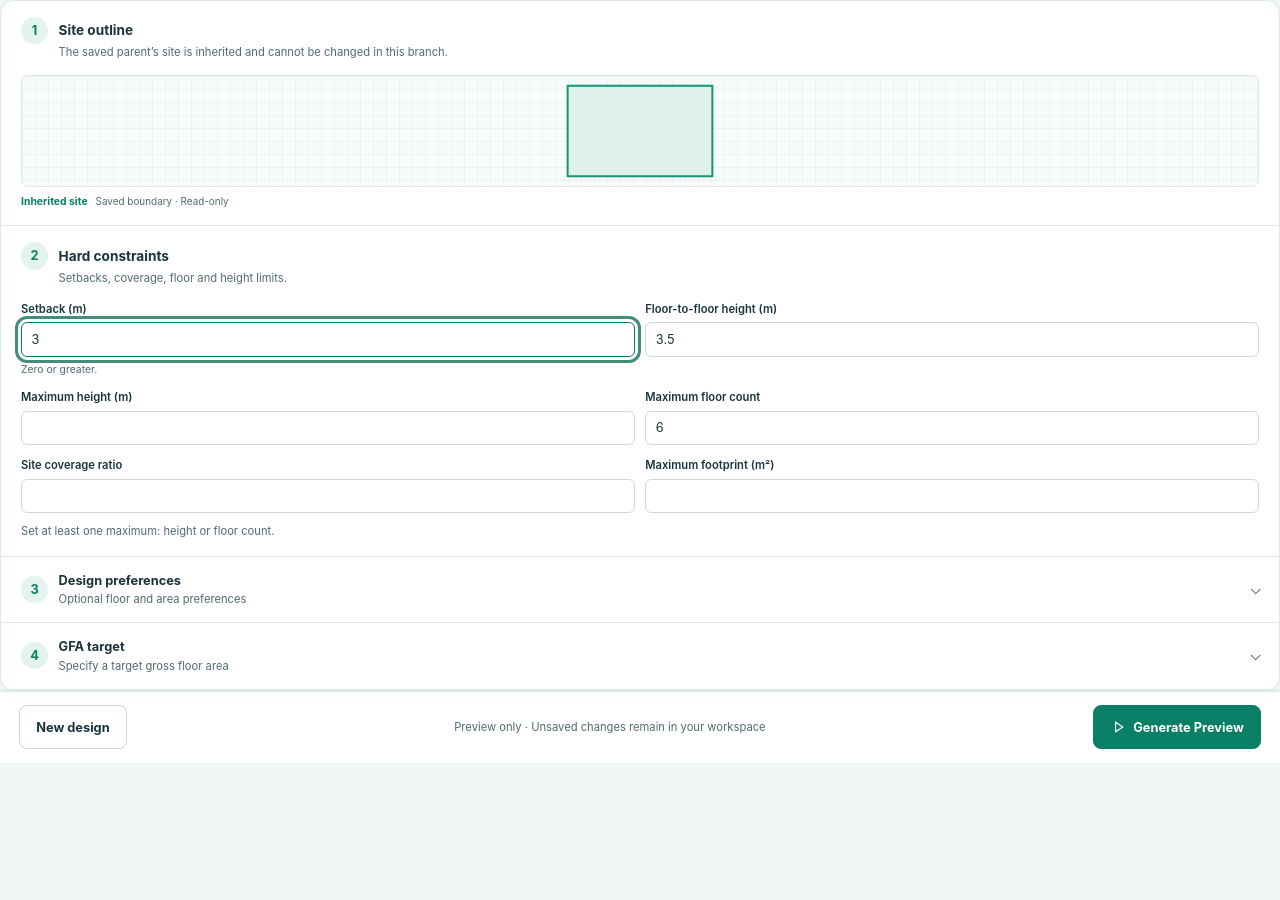
it: ConfigurationForm › focuses branch entry without scrolling and still reveals invalid fields on submission
Click the text "Design preferences" at (120, 580), box [59,572,181,588]
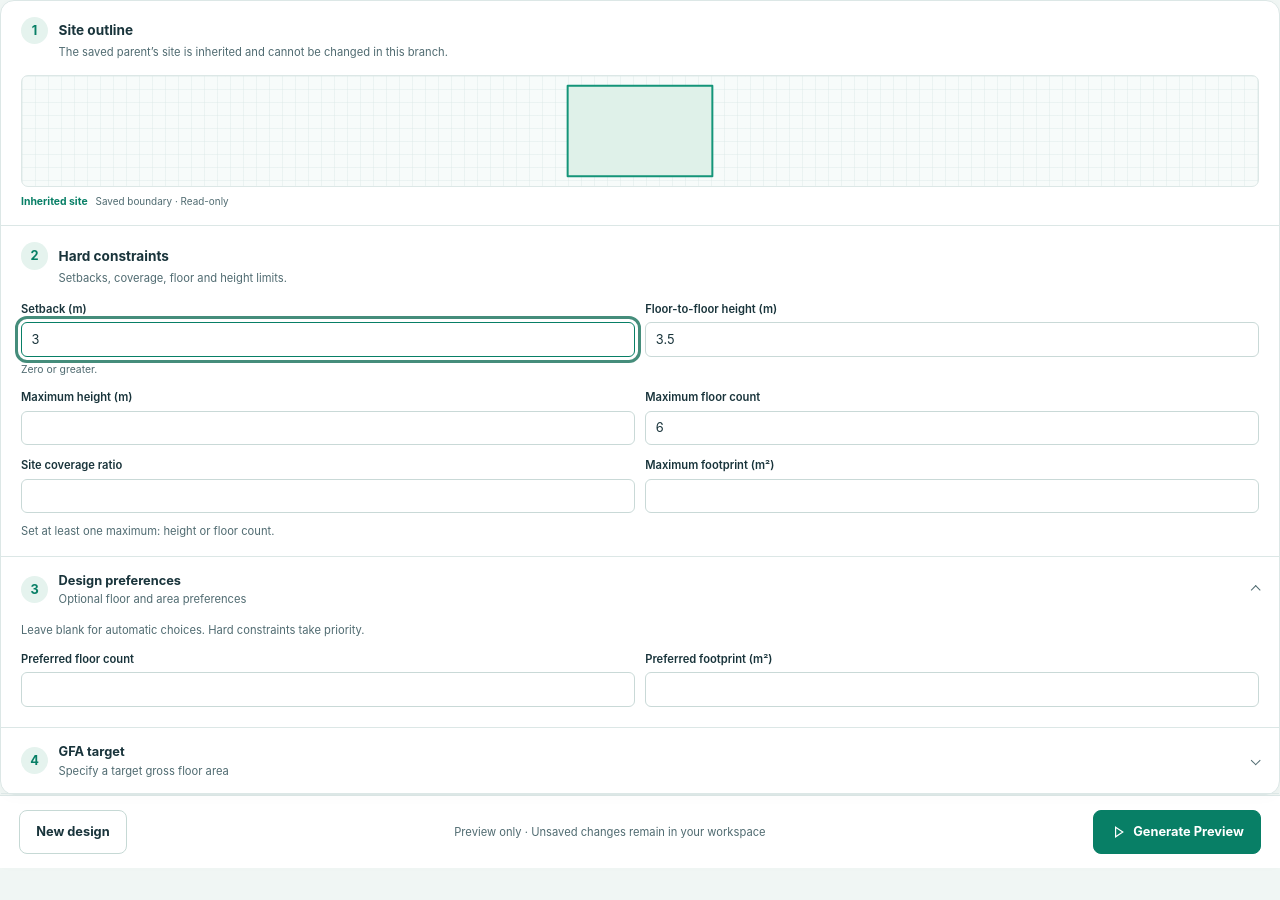
Type "invalid" into the field named "Preferred floor count (optional)" at (328, 690), box [21,672,635,707]
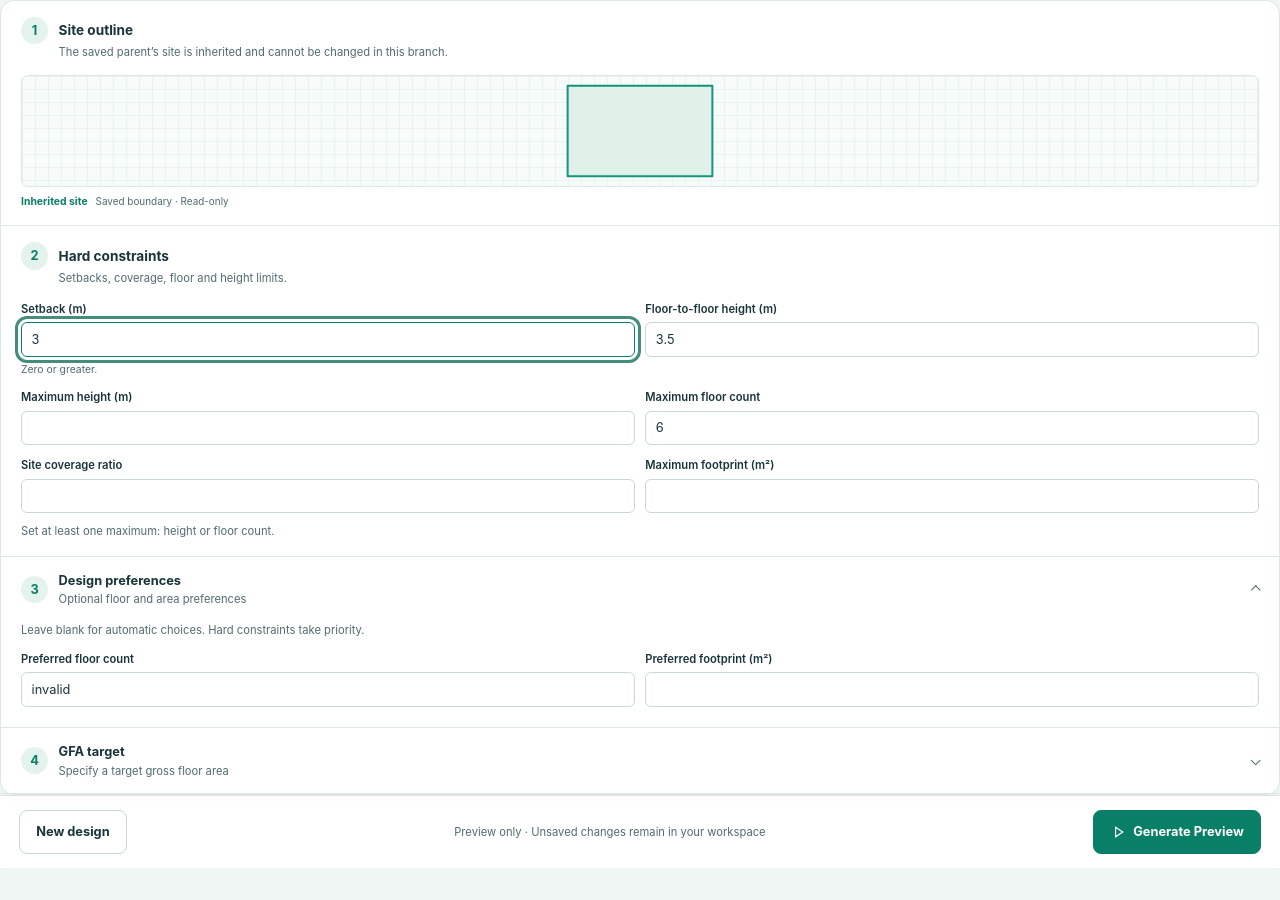
Click the text "Design preferences" at (120, 580), box [59,572,181,588]
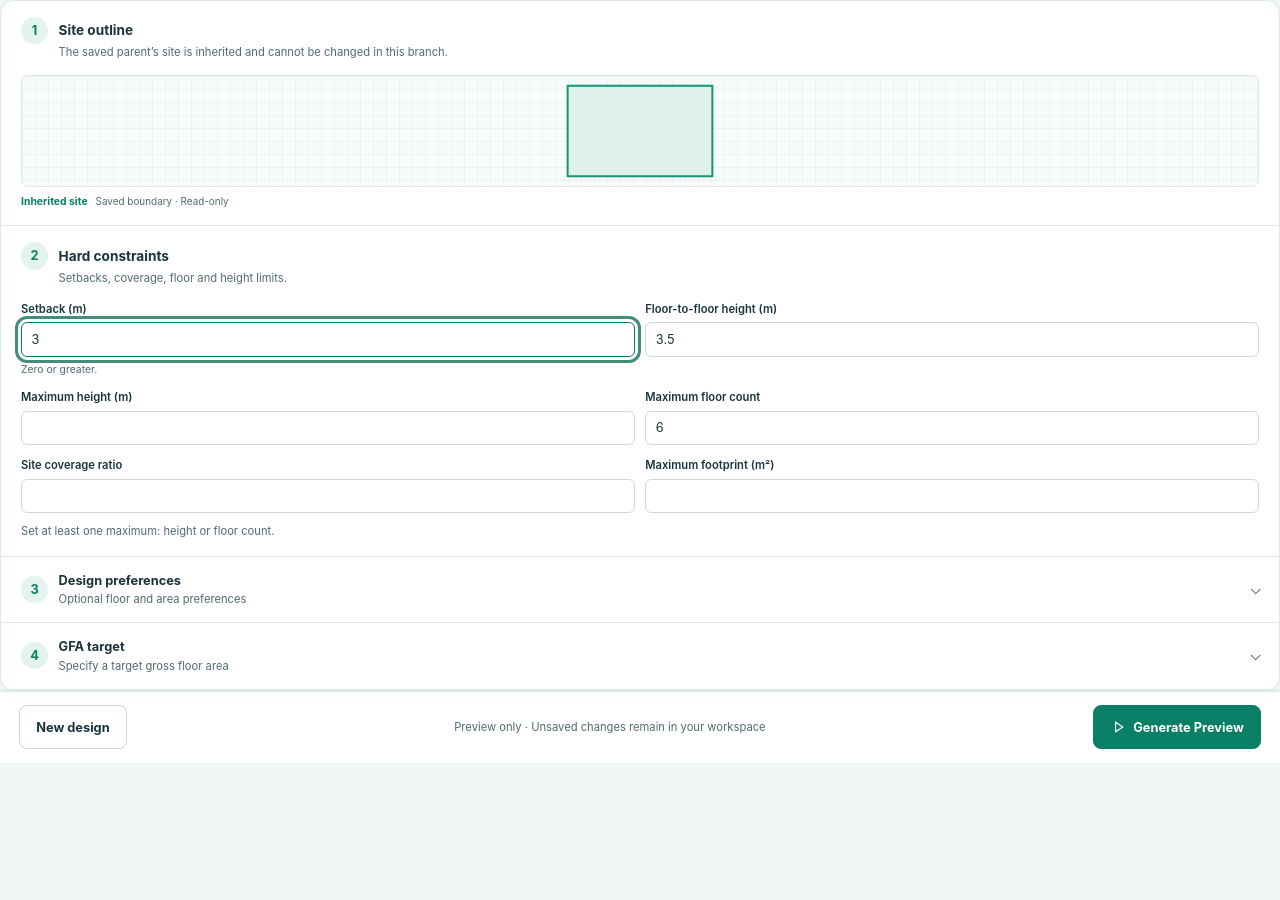
Expected: the text "Design preferences" does not have attribute open, [1,556,1279,623]
Click the button "Generate Preview" at (1177, 727), box [1093,705,1261,749]
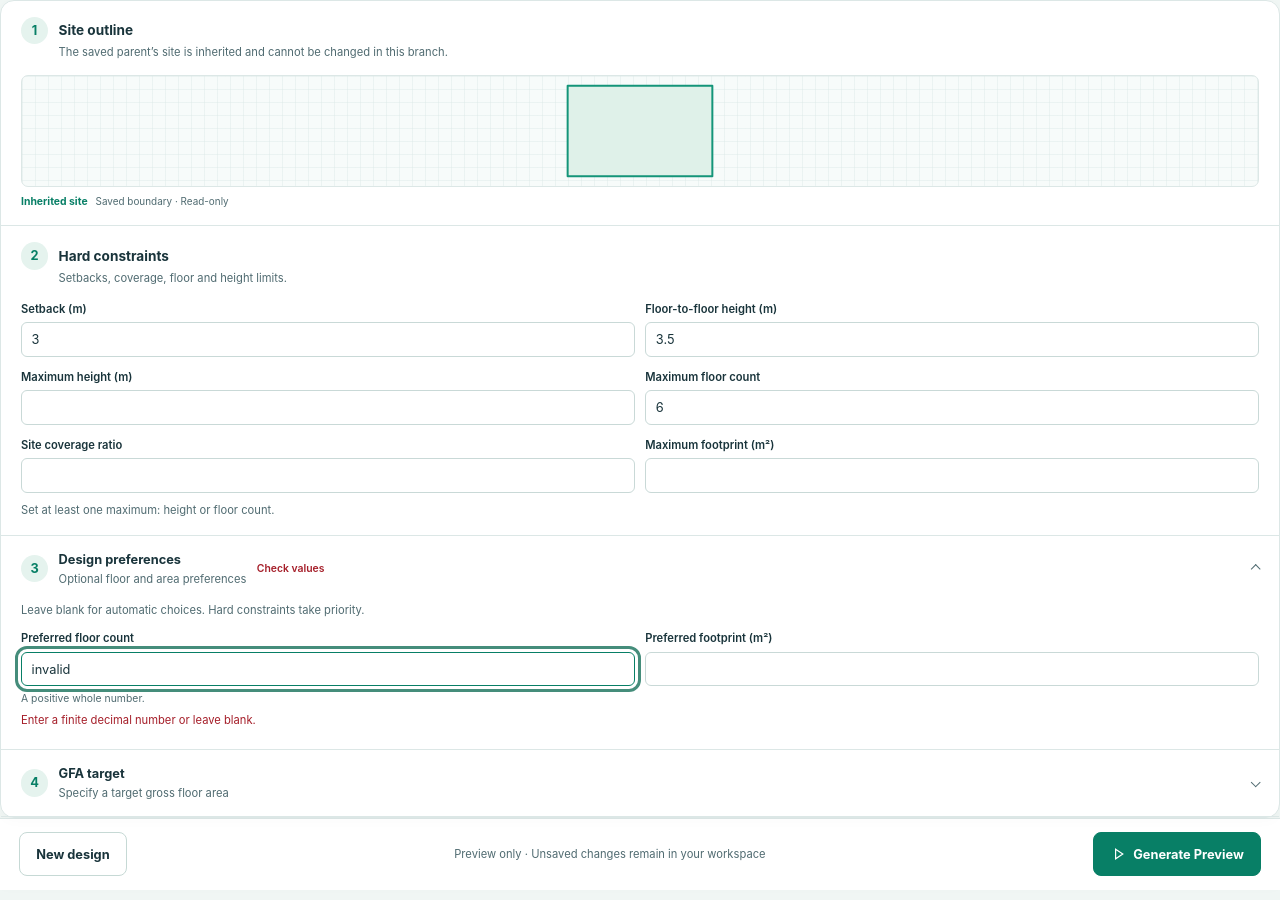
Expected: the message reads "Enter a finite decimal number or leave blank.", [21,714,256,728]
